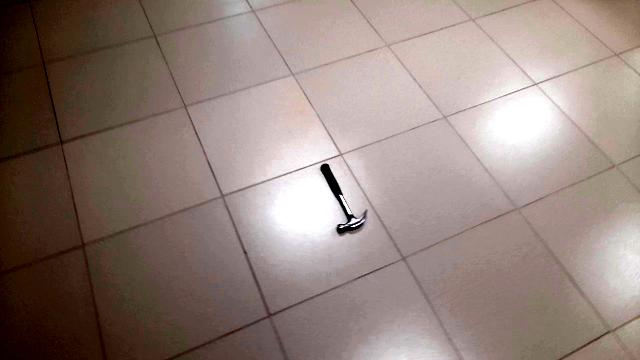hammer: (317, 166, 368, 240)
